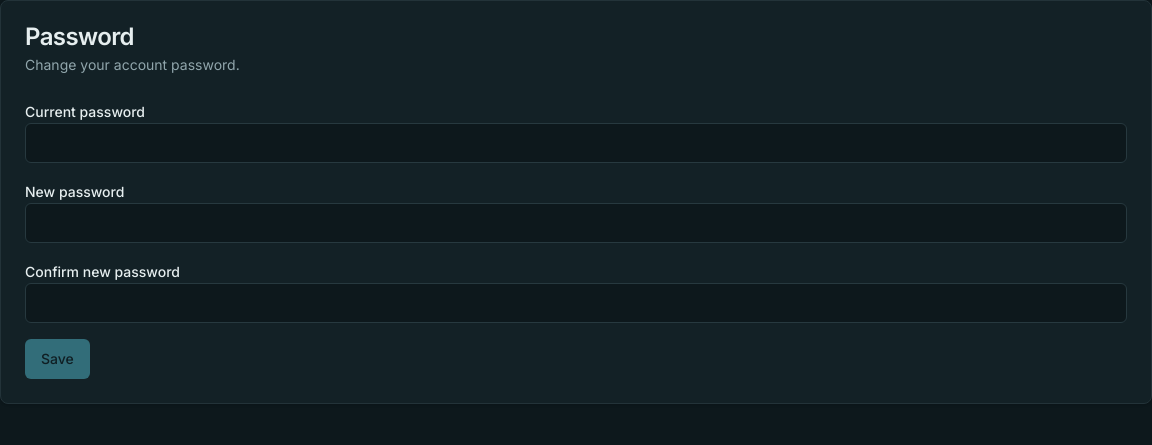
Test: PasswordCard › shows a mismatch error when confirm differs from the new password
The width and height of the screenshot is (1152, 445).
Type "OldPassw0rd!!" into the password field labelled "Current password" at {"x": 576, "y": 143}, box [25,123,1127,163]
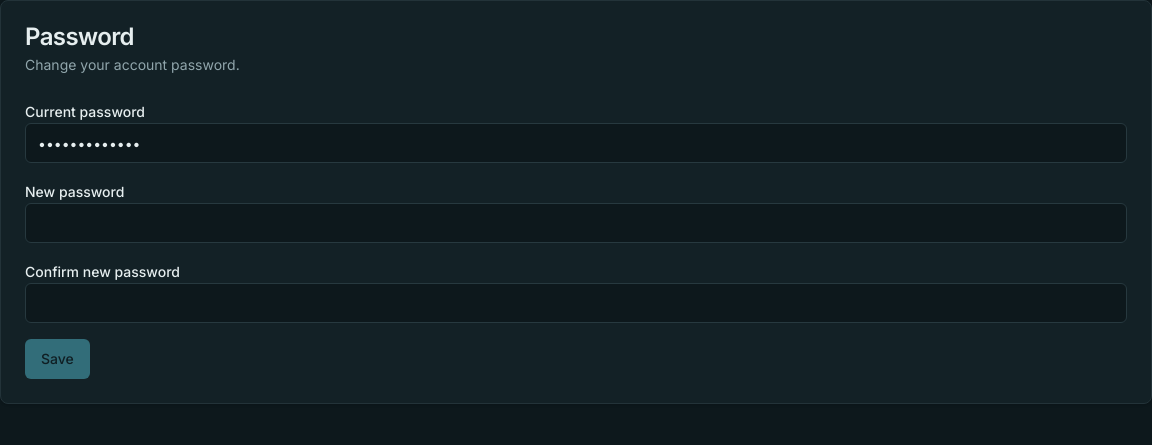
Type "NewPassw0rd!!" into the password field labelled "New password" at {"x": 576, "y": 223}, box [25,203,1127,243]
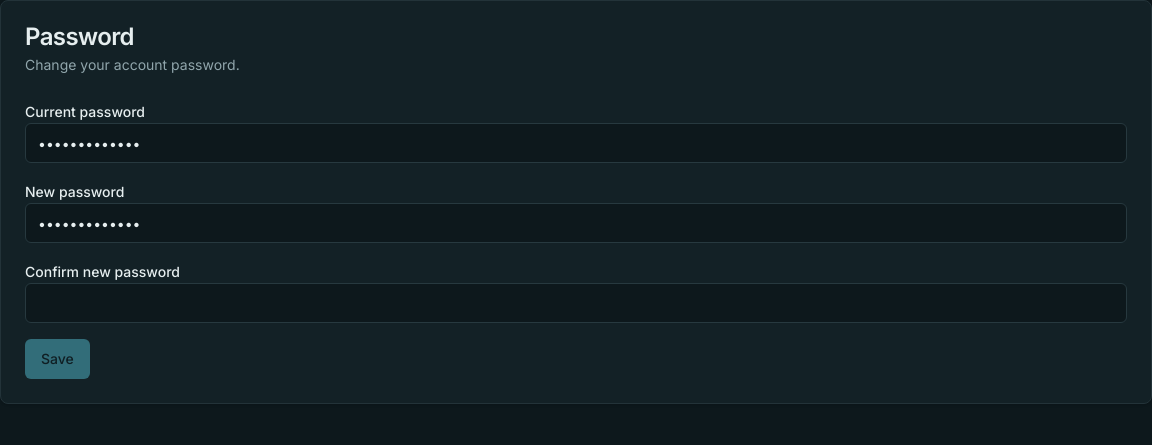
Type "Different0!!!" into the password field labelled "Confirm new password" at {"x": 576, "y": 303}, box [25,283,1127,323]
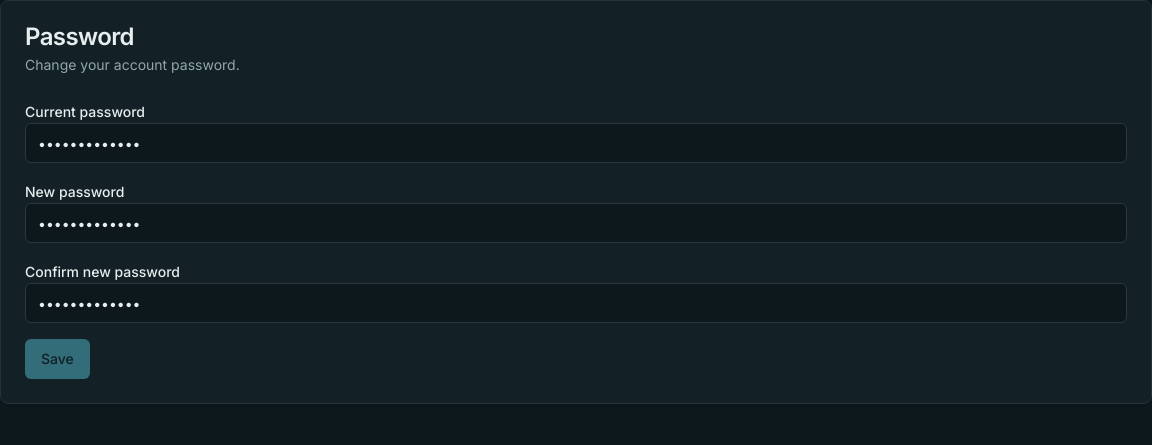
Leave the password field labelled "Confirm new password", box [25,283,1127,323]
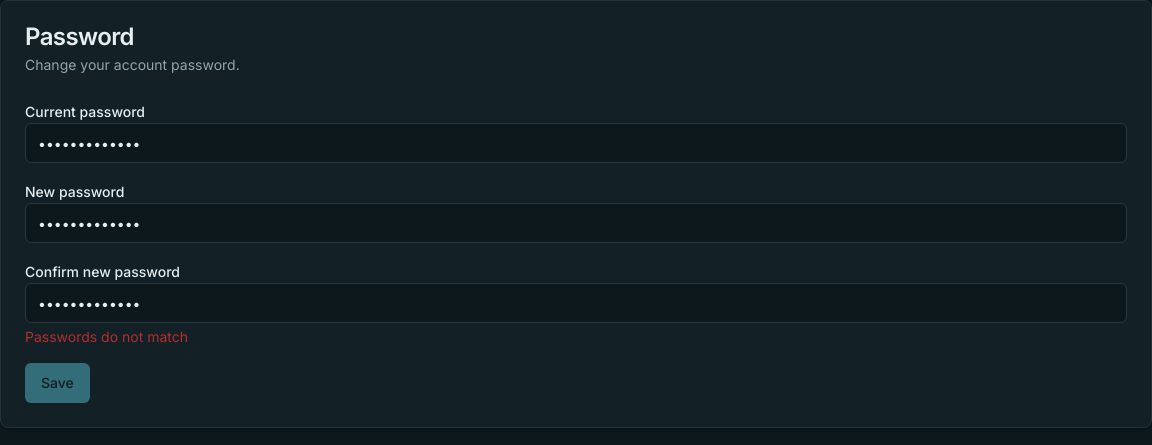
expect the text "Passwords do not match" is shown: met, box [25,328,188,345]
